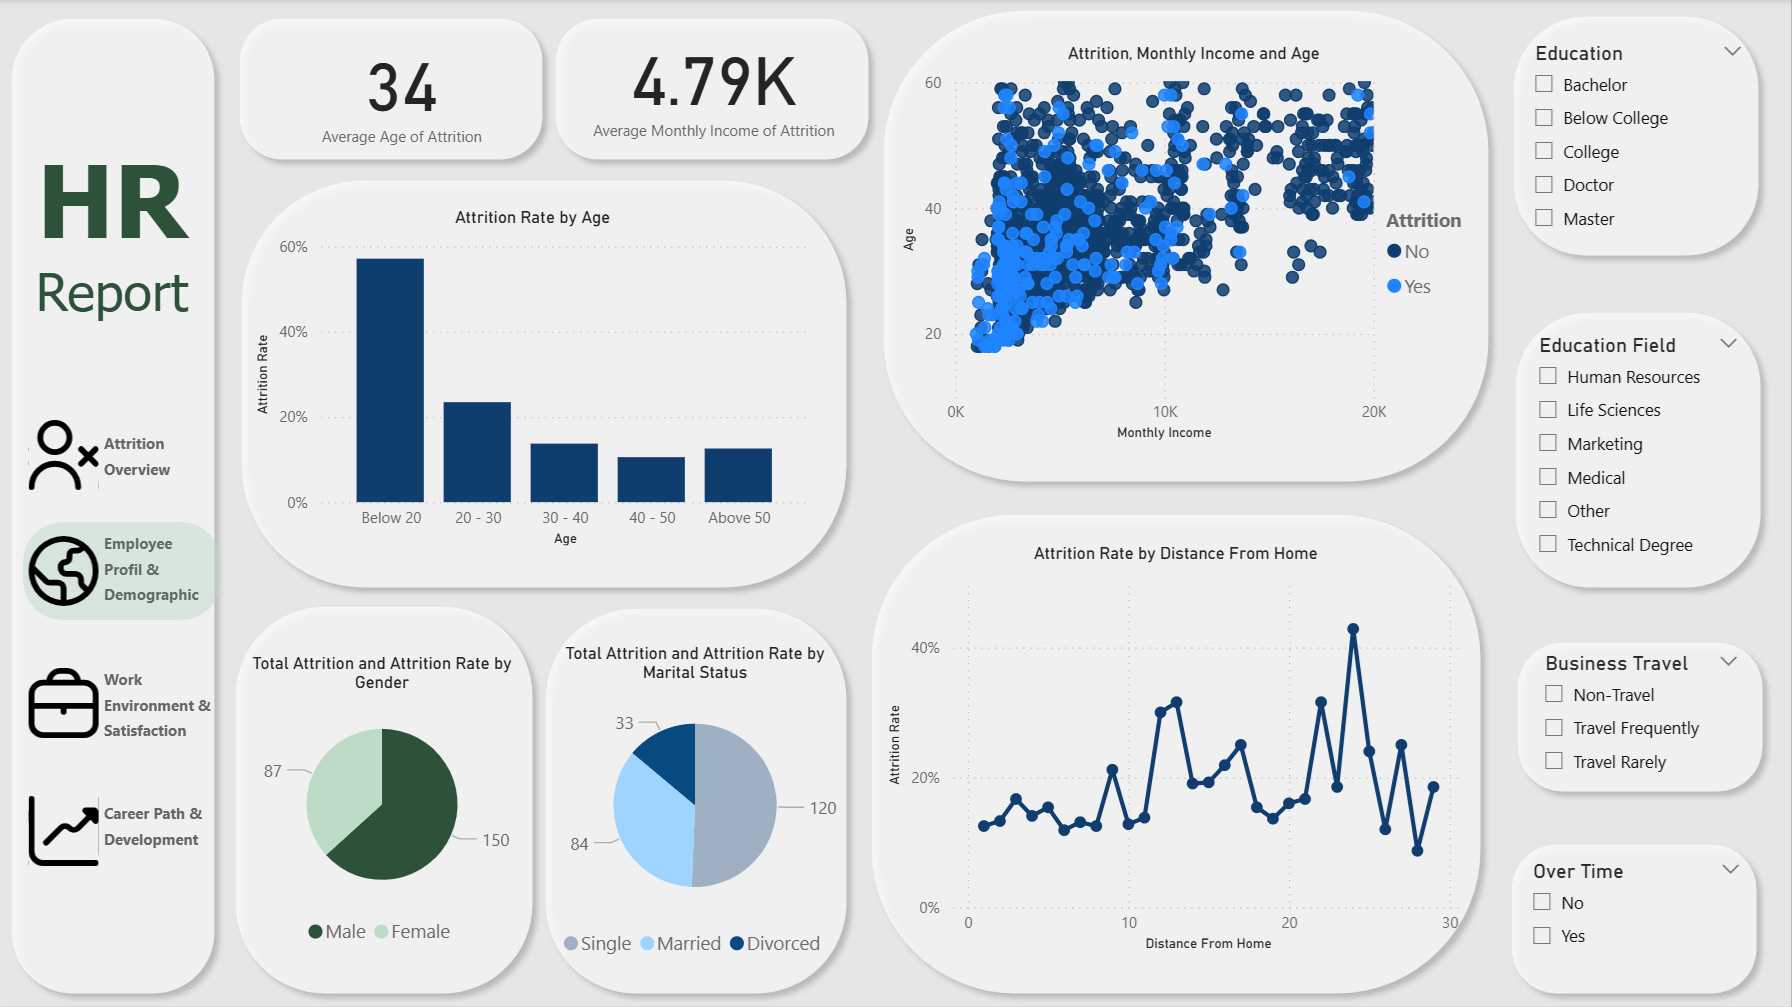

This screenshot's page, from the dashboard's own definition file:
{"tool":"powerbi","page":{"name":"Employee Profil & Demongraphic","canvas":[1280,720],"ordinal":2},"visuals":[{"type":"shape","box":[622.9,0,450,354.3],"z":0,"group":"g3"},{"type":"group","id":"g1","title":"Group 1","box":[0,5.7,162.9,714.3],"z":0},{"type":"shape","box":[0,5.7,162.9,714.3],"z":0,"group":"g1"},{"type":"shape","box":[164.3,121.4,450,308.6],"z":0,"group":"g2"},{"type":"shape","box":[614.3,360,452.9,360],"z":0,"group":"g4"},{"type":"shape","box":[162.9,5.7,234.3,118.6],"z":1000},{"type":"scatterChart","fields":{"Y":["WA_Fn-UseC_-HR-Employee-Attrition.Age"],"X":["WA_Fn-UseC_-HR-Employee-Attrition.Monthly Income"],"Series":["WA_Fn-UseC_-HR-Employee-Attrition.Attrition"]},"box":[639.9,32.7,426.7,287.9],"z":1000,"group":"g3"},{"type":"columnChart","fields":{"Category":["WA_Fn-UseC_-HR-Employee-Attrition.Age Group"],"Y":["WA_Fn-UseC_-HR-Employee-Attrition.Attrition Rate"]},"box":[178.7,150,405.1,246.1],"z":1000,"group":"g2"},{"type":"lineChart","fields":{"Category":["WA_Fn-UseC_-HR-Employee-Attrition.Distance From Home"],"Y":["WA_Fn-UseC_-HR-Employee-Attrition.Attrition Rate"]},"box":[630.5,390.3,421.1,295.5],"z":1000,"group":"g4"},{"type":"shape","box":[388.6,5.7,241.4,118.6],"z":2000},{"type":"textbox","box":[70,302.8,80,47.1],"z":2000,"group":"g1"},{"type":"textbox","box":[70,374.3,80,84.3],"z":2125,"group":"g1"},{"type":"actionButton","box":[17.1,291.4,141.4,70],"z":2250,"group":"g1"},{"type":"actionButton","box":[17.1,374.3,141.4,70],"z":2625,"group":"g1"},{"type":"card","fields":{"Values":["WA_Fn-UseC_-HR-Employee-Attrition.Average Age of Attrition"]},"box":[194.3,17.1,187.1,95.7],"z":3000},{"type":"card","title":"Attrition","fields":{"Values":["WA_Fn-UseC_-HR-Employee-Attrition.Average Monthly Income of Attrition"]},"box":[417.1,12.9,187.1,95.7],"z":4000},{"type":"group","id":"g2","title":"Group 2","box":[164.3,121.4,450,308.6],"z":5000},{"type":"textbox","box":[70,471.4,92.9,67.1],"z":5000,"group":"g1"},{"type":"actionButton","box":[17.1,468.6,141.4,70],"z":5500,"group":"g1"},{"type":"shape","box":[1072.9,4.3,192.9,188.6],"z":6000},{"type":"slicer","fields":{"Values":["Education.Education"]},"box":[1084.3,25.7,172.9,157.1],"z":7000},{"type":"textbox","box":[70,567.1,88.6,55.7],"z":7000,"group":"g1"},{"type":"actionButton","box":[17.1,560,141.4,70],"z":7500,"group":"g1"},{"type":"shape","box":[1075,215.7,192.9,214.3],"z":8000},{"type":"slicer","fields":{"Values":["WA_Fn-UseC_-HR-Employee-Attrition.Education Field"]},"box":[1087.1,234.3,167.1,180],"z":9000},{"type":"shape","box":[1075.7,451.4,192.9,124.3],"z":10000},{"type":"slicer","fields":{"Values":["WA_Fn-UseC_-HR-Employee-Attrition.Business Travel"]},"box":[1090.7,461.4,162.9,104.3],"z":11000},{"type":"shape","box":[1070.7,595.7,192.9,124.3],"z":12000},{"type":"slicer","fields":{"Values":["WA_Fn-UseC_-HR-Employee-Attrition.Over Time"]},"box":[1082.1,610,172.9,104.3],"z":13000},{"type":"group","id":"g3","title":"Group 2","box":[622.9,0,450,354.3],"z":14000},{"type":"group","id":"g4","title":"Group 2","box":[614.3,360,452.9,360],"z":15000},{"type":"shape","box":[160,425.7,230,294.3],"z":16000},{"type":"pieChart","fields":{"Category":["WA_Fn-UseC_-HR-Employee-Attrition.Gender"],"Y":["WA_Fn-UseC_-HR-Employee-Attrition.Total Attrition"]},"box":[170,468.6,207.1,217.1],"z":17000},{"type":"shape","box":[381.4,427.1,232.9,292.9],"z":18000},{"type":"pieChart","fields":{"Category":["WA_Fn-UseC_-HR-Employee-Attrition.Marital Status"],"Y":["WA_Fn-UseC_-HR-Employee-Attrition.Total Attrition"]},"box":[390,461.4,214.3,232.9],"z":19000},{"type":"textbox","box":[17.1,94.3,127.1,151.4],"z":20000}]}

Visuals, with their boxes in screenshot pixels (x1, y1, x2, y2), scaled from the page's 1280x720 canvas onto the 1792x1007 screenshot:
shape: bbox=(872, 0, 1502, 496)
"Group 1" group: bbox=(0, 8, 228, 1006)
shape: bbox=(0, 8, 228, 1006)
shape: bbox=(230, 170, 860, 601)
shape: bbox=(860, 503, 1494, 1006)
shape: bbox=(228, 8, 556, 174)
scatterChart - WA_Fn-UseC_-HR-Employee-Attrition.Age x WA_Fn-UseC_-HR-Employee-Attrition.Monthly Income: bbox=(896, 46, 1493, 448)
columnChart - WA_Fn-UseC_-HR-Employee-Attrition.Age Group x WA_Fn-UseC_-HR-Employee-Attrition.Attrition Rate: bbox=(250, 210, 817, 554)
lineChart - WA_Fn-UseC_-HR-Employee-Attrition.Distance From Home x WA_Fn-UseC_-HR-Employee-Attrition.Attrition Rate: bbox=(883, 546, 1472, 959)
shape: bbox=(544, 8, 882, 174)
textbox: bbox=(98, 423, 210, 489)
textbox: bbox=(98, 524, 210, 641)
actionButton: bbox=(24, 408, 222, 505)
actionButton: bbox=(24, 524, 222, 621)
card - WA_Fn-UseC_-HR-Employee-Attrition.Average Age of Attrition: bbox=(272, 24, 534, 158)
"Attrition" card: bbox=(584, 18, 846, 152)
"Group 2" group: bbox=(230, 170, 860, 601)
textbox: bbox=(98, 659, 228, 753)
actionButton: bbox=(24, 655, 222, 753)
shape: bbox=(1502, 6, 1772, 270)
slicer - Education.Education: bbox=(1518, 36, 1760, 256)
textbox: bbox=(98, 793, 222, 871)
actionButton: bbox=(24, 783, 222, 881)
shape: bbox=(1505, 302, 1775, 601)
slicer - WA_Fn-UseC_-HR-Employee-Attrition.Education Field: bbox=(1522, 328, 1756, 579)
shape: bbox=(1506, 631, 1776, 805)
slicer - WA_Fn-UseC_-HR-Employee-Attrition.Business Travel: bbox=(1527, 645, 1755, 791)
shape: bbox=(1499, 833, 1769, 1006)
slicer - WA_Fn-UseC_-HR-Employee-Attrition.Over Time: bbox=(1515, 853, 1757, 999)
"Group 2" group: bbox=(872, 0, 1502, 496)
"Group 2" group: bbox=(860, 503, 1494, 1006)
shape: bbox=(224, 595, 546, 1006)
pieChart - WA_Fn-UseC_-HR-Employee-Attrition.Gender x WA_Fn-UseC_-HR-Employee-Attrition.Total Attrition: bbox=(238, 655, 528, 959)
shape: bbox=(534, 597, 860, 1006)
pieChart - WA_Fn-UseC_-HR-Employee-Attrition.Marital Status x WA_Fn-UseC_-HR-Employee-Attrition.Total Attrition: bbox=(546, 645, 846, 971)
textbox: bbox=(24, 132, 202, 344)
